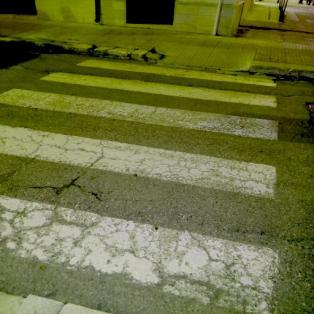Paso de Cebra: (35, 57, 294, 111)
